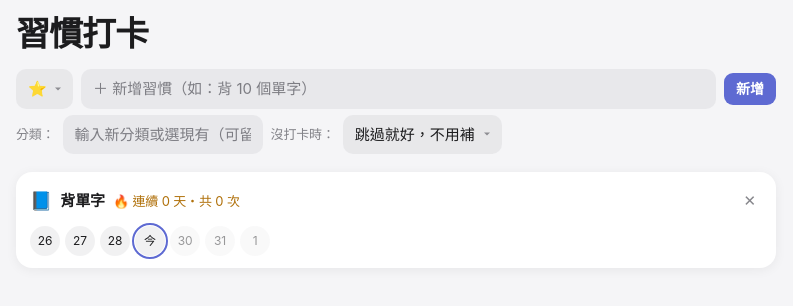
Test: 習慣頁打卡／補卡／取消的寫入／刷新邊界 › 沒有錯誤訊息的寫入失敗退回預設繁中提示
This screenshot has width=793, height=306.
Click the text "今" at (150, 241), box [135,226,165,256]
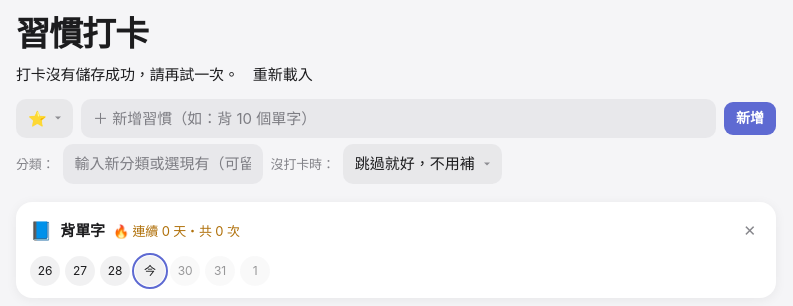
Now the message shows "打卡沒有儲存成功，請再試一次。", box [16,65,239,84]
